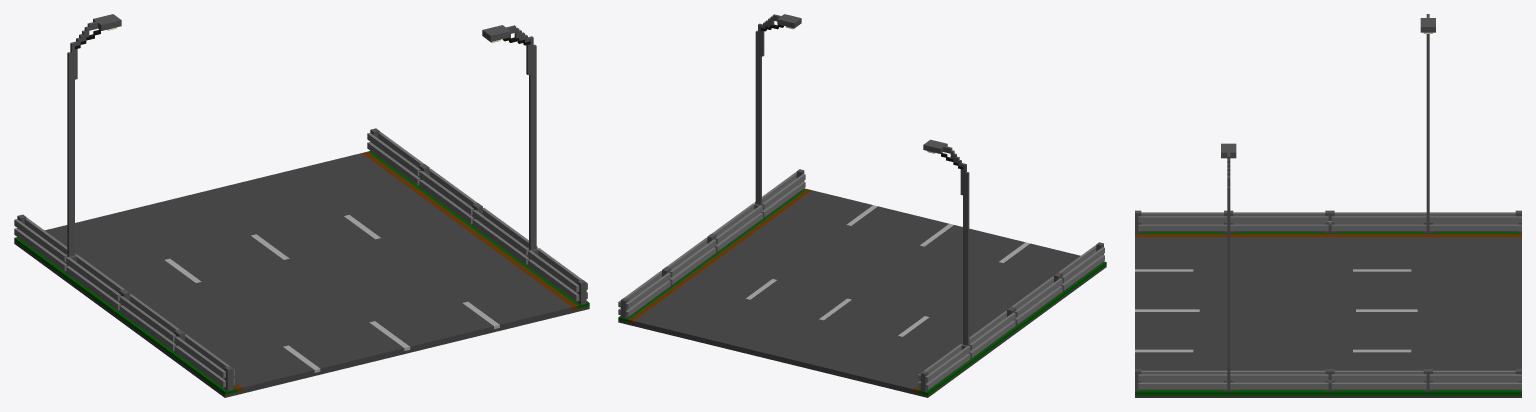
Rendered from highway_straight.obj.
The picture shows the model from 3 angles, left to right: view 1: azimuth 30°, elevation 25°; view 2: azimuth 150°, elevation 25°; view 3: azimuth 270°, elevation 25°; orthographic projection. The views are drawn at different scales.
Parts seen in each view (by area): view 1: highway_straight; view 2: highway_straight; view 3: highway_straight.
Boxes of the visible parts, x1,y1,x2,y2 form: highway_straight: (14,14,589,397); highway_straight: (618,14,1106,397); highway_straight: (1135,14,1521,397).
Bounding box in the file's own units: 126 × 83 × 126.
Materials: 1 (1 with a texture image).
